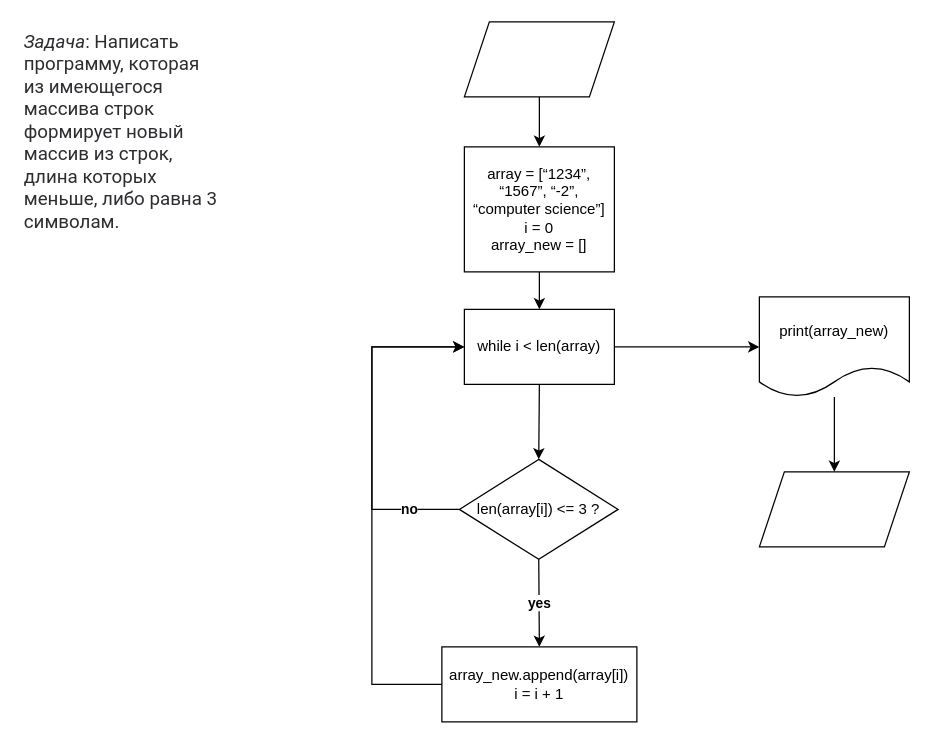
This 931x744 diagram has some shape labels left out. Here are the shapes that lost their labels. From the top down, the centre of each, then its label:
[538,59]: Start
[833,509]: Finish
